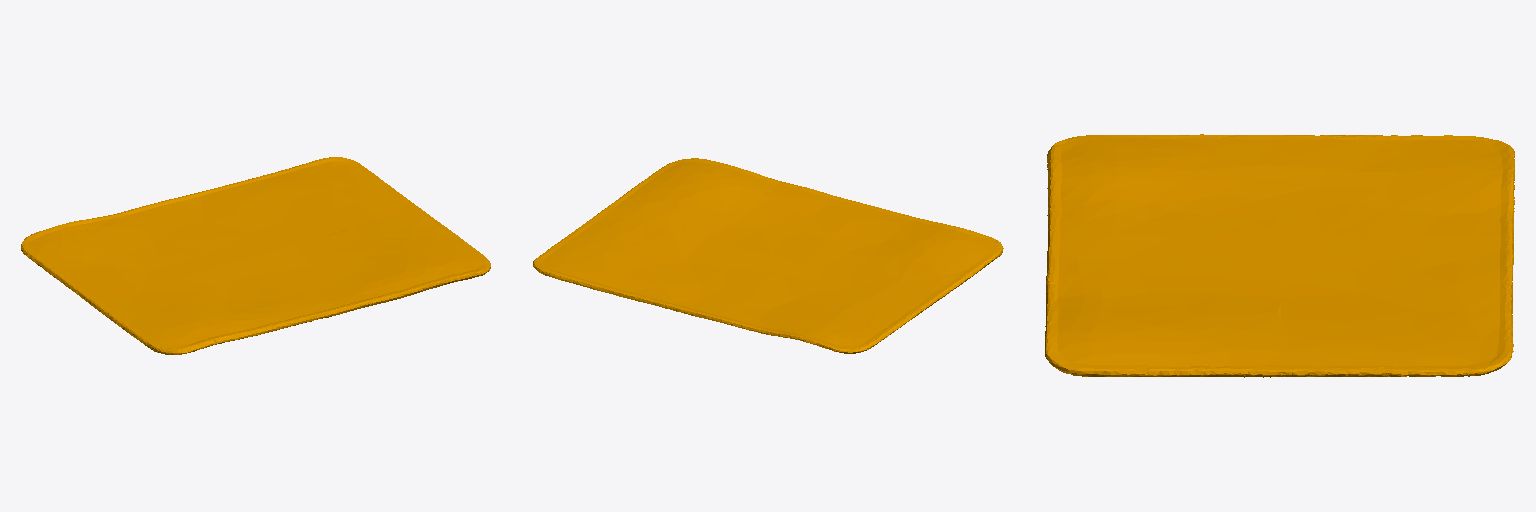
URDF robot description (Razer_Goliathus_Control_Edition_Small_Soft_Gaming_Mouse_Mat):
<?xml version="1.0" ?>
<robot name="Razer_Goliathus_Control_Edition_Small_Soft_Gaming_Mouse_Mat">
  <link name="link_0">
    <inertial>
      <origin xyz="0 0 0" rpy="0 0 0"/>
      <mass value="1.0"/>
      <inertia ixx="0.1" ixy="0.0" ixz="0.0" iyy="0.1" iyz="0.0" izz="0.1"/>
    </inertial>
    <visual name="visual">
      <origin xyz="0 0 0" rpy="0 0 0"/>
      <geometry>
        <mesh filename="meshes/model.obj"/>
      </geometry>
    </visual>
    <collision name="collision_0">
      <origin xyz="0 0 0" rpy="0 0 0"/>
      <geometry>
        <mesh filename="meshes/model.obj"/>
      </geometry>
    </collision>
  </link>
</robot>

--- Facts derived from the render (not from the file) ---
3 views of the same robot in one strip: view 1: azimuth 30°, elevation 25°; view 2: azimuth 150°, elevation 25°; view 3: azimuth 270°, elevation 25° (orthographic).
Model Razer_Goliathus_Control_Edition_Small_Soft_Gaming_Mouse_Mat with 1 links and 0 joints (none), rooted at link_0, posed all joints at 0.
Links seen in each view (by area): view 1: link_0; view 2: link_0; view 3: link_0.
Link boxes in pixels (bbox=[...]): link_0: bbox=[21, 157, 490, 354]; link_0: bbox=[533, 158, 1003, 353]; link_0: bbox=[1045, 134, 1514, 377].
Size in the robot's own frame: 0.2729 by 0.2196 by 0.0103 metres.
1 mesh visuals loaded from 1 distinct referenced files (1 OBJ).